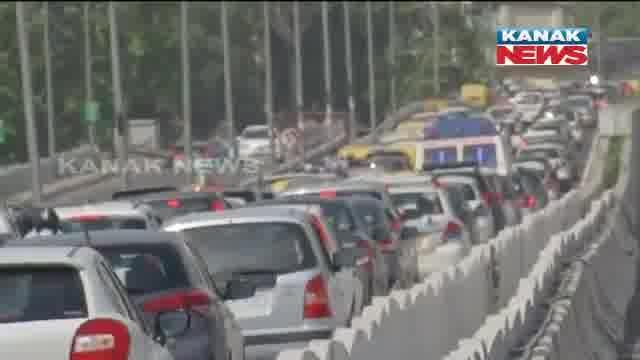AMBULANCE: (414, 112, 510, 166)
